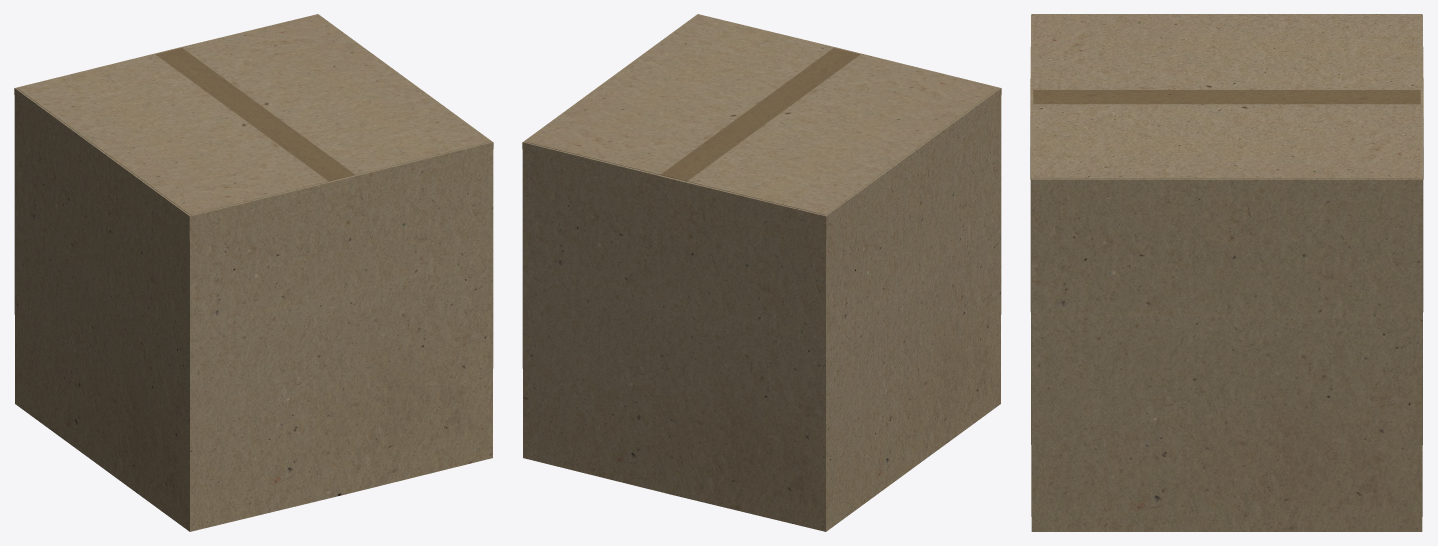
The model's file is box_open_lid.fbx.
3 views of the same model, side by side, from view 1: azimuth 30°, elevation 25°; view 2: azimuth 150°, elevation 25°; view 3: azimuth 270°, elevation 25° (orthographic). The views are drawn at different scales.
Parts seen in each view (by area): view 1: box_open, box_op2, box-2; view 2: box_open, box_op2, box-2; view 3: box_open, box_op2, box-2.
Part boxes in pixels (bbox=[...]): box_open: bbox=[14, 14, 493, 531]; box_op2: bbox=[17, 51, 341, 215]; box-2: bbox=[169, 14, 490, 178]; box_open: bbox=[522, 14, 1001, 531]; box_op2: bbox=[674, 51, 998, 215]; box-2: bbox=[525, 14, 846, 178]; box_open: bbox=[1030, 14, 1423, 531]; box_op2: bbox=[1033, 14, 1420, 97]; box-2: bbox=[1033, 97, 1420, 178].
Size of the model in its own units: 4.01 by 4 by 4.03.
Materials: 1 (1 with a texture image).
